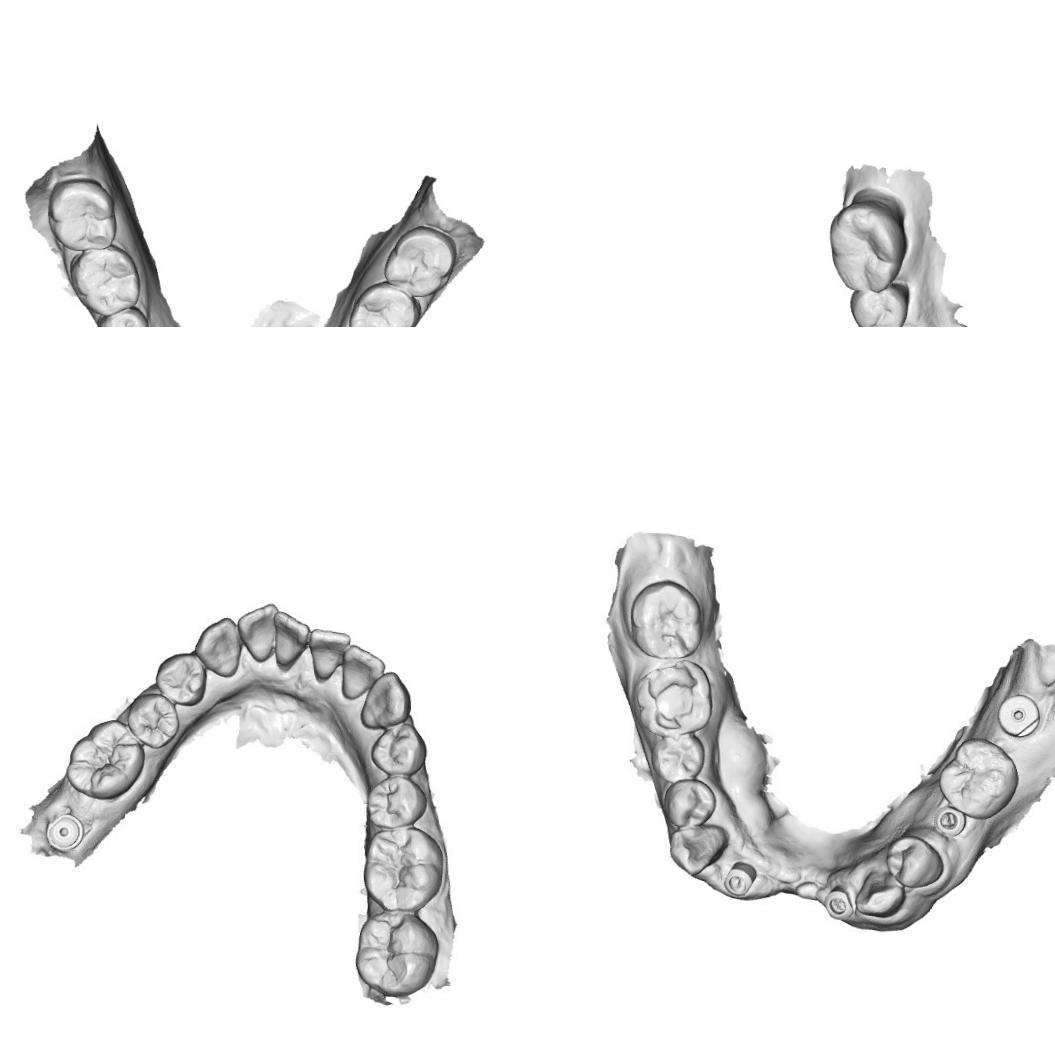canine: (358, 671, 412, 729), (198, 619, 242, 675)
implant: (996, 688, 1044, 744), (44, 809, 89, 858), (724, 862, 759, 900), (934, 802, 966, 839), (821, 884, 851, 922)
incisor: (666, 820, 726, 872), (240, 604, 283, 661), (270, 612, 310, 672), (308, 624, 348, 681), (854, 868, 902, 912), (340, 646, 380, 696)
molar: (823, 198, 912, 296), (364, 828, 444, 914), (64, 717, 144, 801), (633, 577, 706, 661), (358, 914, 438, 990), (381, 222, 459, 299), (67, 242, 143, 318), (940, 740, 1014, 818), (45, 178, 118, 252), (639, 662, 710, 736), (345, 278, 423, 327), (662, 775, 718, 834), (655, 734, 700, 778)
premolar: (844, 282, 916, 327), (364, 774, 424, 826), (883, 836, 941, 889), (154, 654, 206, 704), (132, 694, 177, 748), (374, 722, 423, 771), (95, 303, 151, 327)
